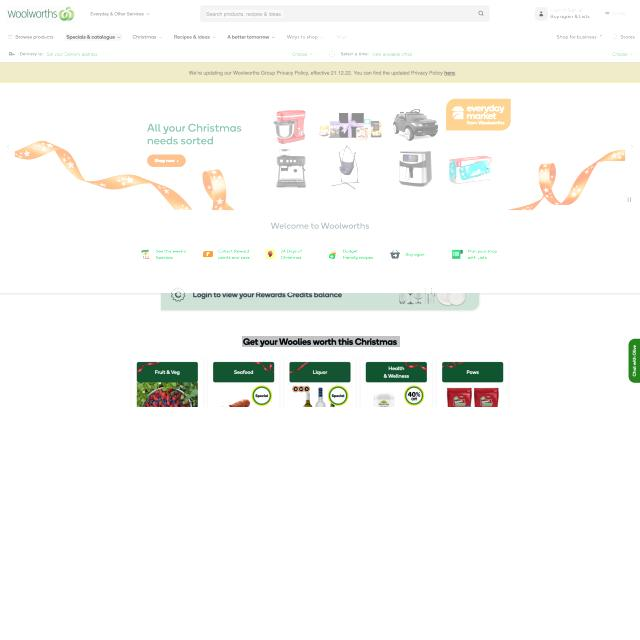CheckBox: (598, 7, 634, 21)
CheckedTextView: (200, 5, 490, 22)
ProgressBar: (0, 63, 640, 82)
Switch: (0, 83, 640, 293)
alert: (89, 10, 151, 18), (65, 33, 122, 41), (226, 34, 276, 42), (173, 33, 216, 41), (284, 34, 325, 42), (131, 33, 164, 41), (334, 34, 354, 40)
bag: (0, 0, 640, 62)
breadcrumbs: (242, 336, 400, 347)
carousel: (535, 7, 548, 21)
date picker: (6, 6, 75, 23)
decoration: (134, 243, 506, 265), (7, 32, 357, 42)
footer: (206, 10, 283, 18)
